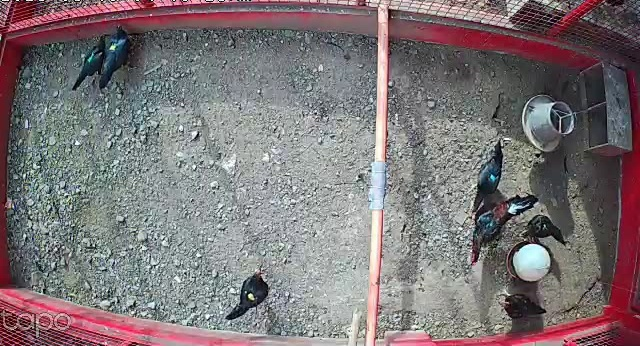Chicken: (223, 265, 273, 325), (97, 23, 139, 93), (471, 138, 507, 212), (72, 32, 109, 91), (494, 287, 553, 321), (520, 214, 568, 248), (246, 291, 255, 302)
Rooster: (467, 191, 537, 270)
Saddle_Color_Blue: (489, 172, 499, 182)
Saddle_Color_Green: (85, 52, 96, 65)
Saddle_Color_Yellow: (110, 43, 119, 51)
